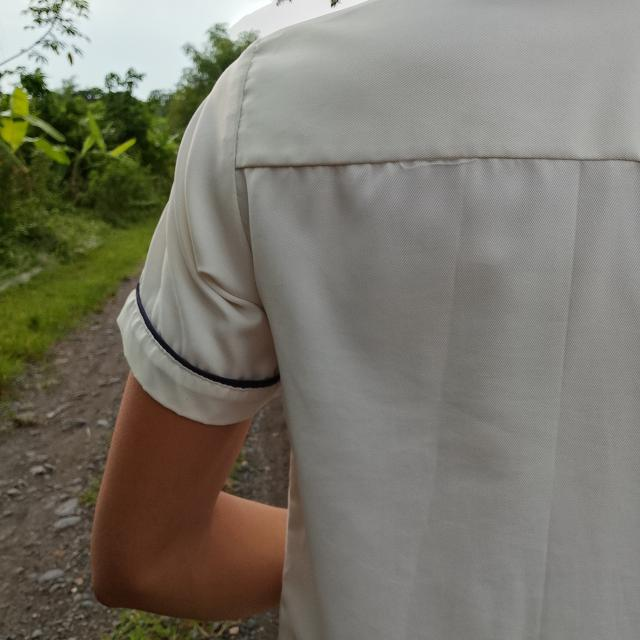education_male_uniform: (63, 0, 640, 504)
